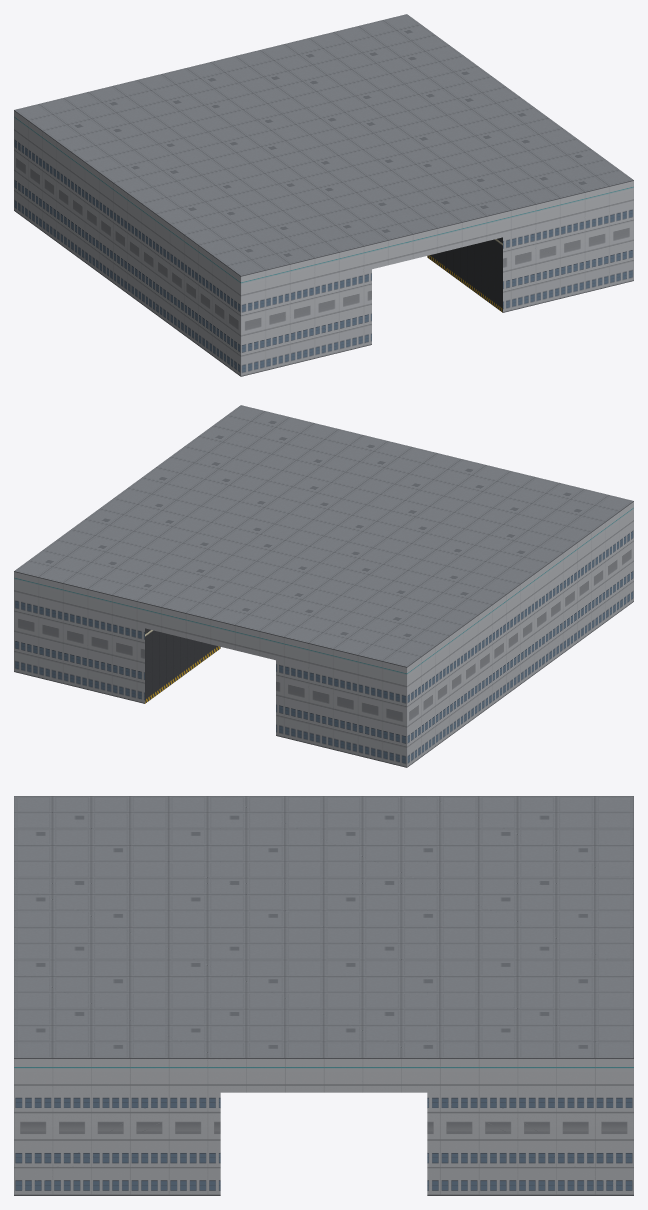
File: BLD_POD_Gate_T.fbx
The picture shows the model from 3 angles, top to bottom: view 1: azimuth 30°, elevation 25°; view 2: azimuth 150°, elevation 25°; view 3: azimuth 270°, elevation 25°; orthographic projection. The views are drawn at different scales.
Parts seen in each view (by area): view 1: BLD_POD_Gate_T; view 2: BLD_POD_Gate_T; view 3: BLD_POD_Gate_T.
Part boxes in pixels (x1,y1,x2,y2): BLD_POD_Gate_T: (14, 14, 633, 376); BLD_POD_Gate_T: (14, 405, 633, 767); BLD_POD_Gate_T: (14, 796, 633, 1195).
Size of the model in its own units: 100 by 24.5 by 100.
